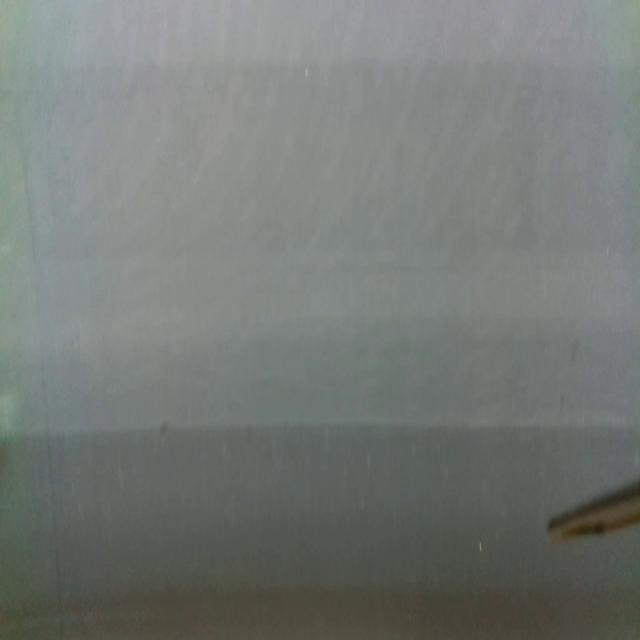color bleeding: (0, 48, 640, 268), (0, 421, 547, 616)
crease: (19, 147, 63, 636)
hole: (479, 542, 484, 554)
